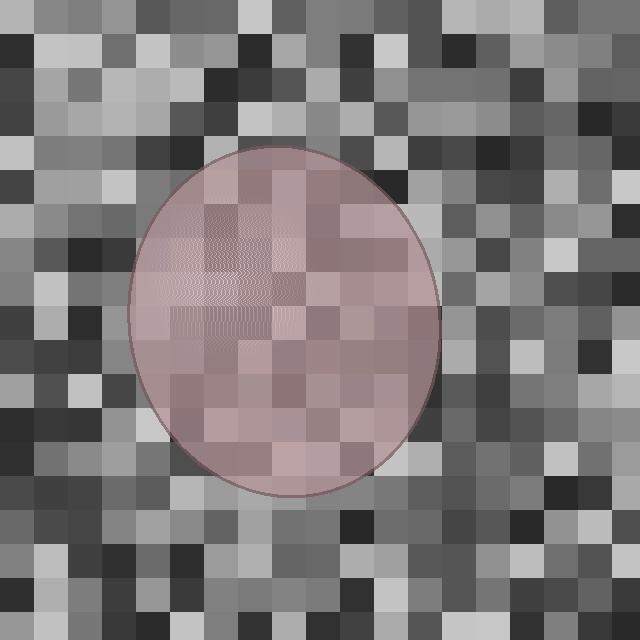lens: (128, 146, 440, 496)
